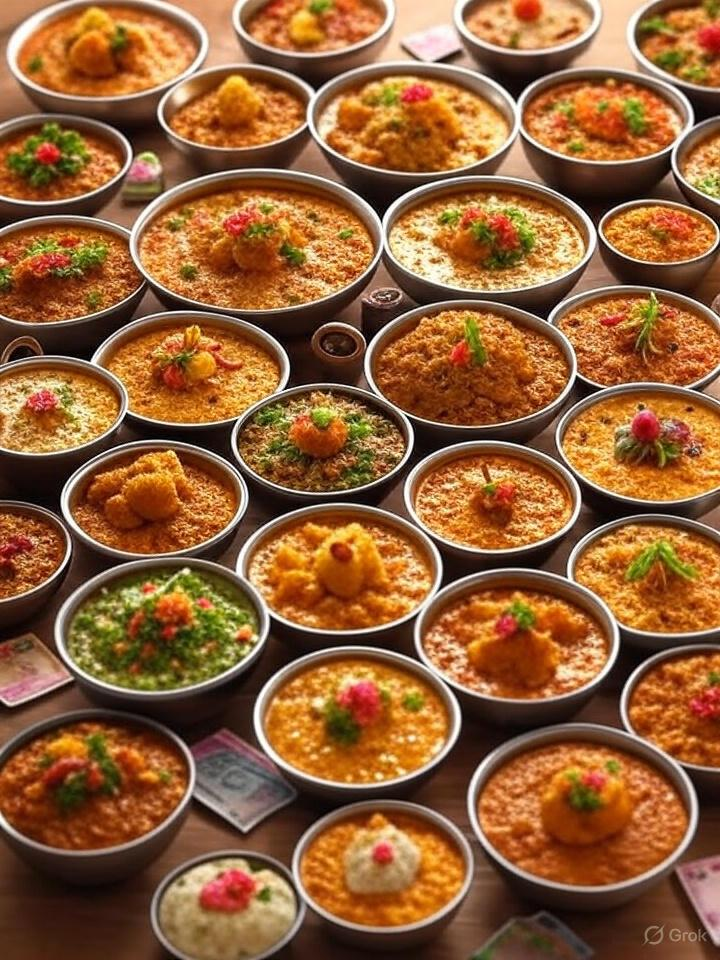sabji: (68, 153, 640, 867)
